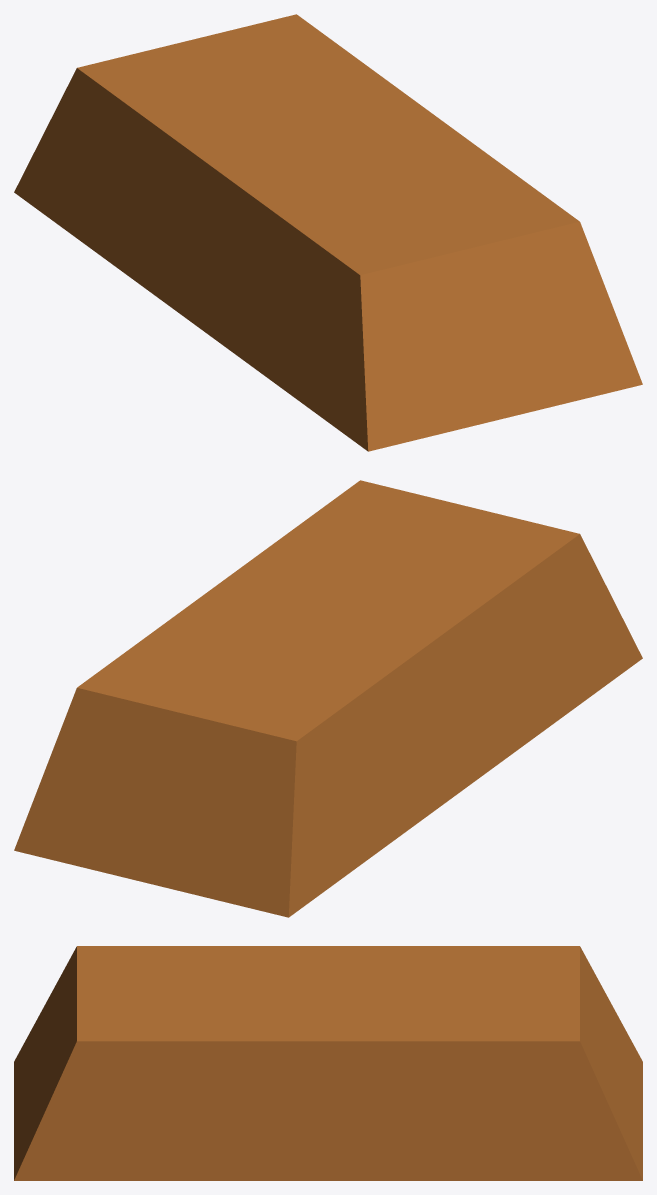
The model's file is Copper_Ingot.glb.
The picture shows the model from 3 angles, top to bottom: view 1: azimuth 30°, elevation 25°; view 2: azimuth 150°, elevation 25°; view 3: azimuth 270°, elevation 25°; orthographic projection. The views are drawn at different scales.
Visible parts, largest first — view 1: Cube; view 2: Cube; view 3: Cube.
Part boxes in pixels (bbox=[...]): Cube: bbox=[14, 14, 642, 451]; Cube: bbox=[14, 480, 642, 917]; Cube: bbox=[14, 946, 642, 1180].
Size of the model in its own units: 0.6 by 0.3 by 1.34.
